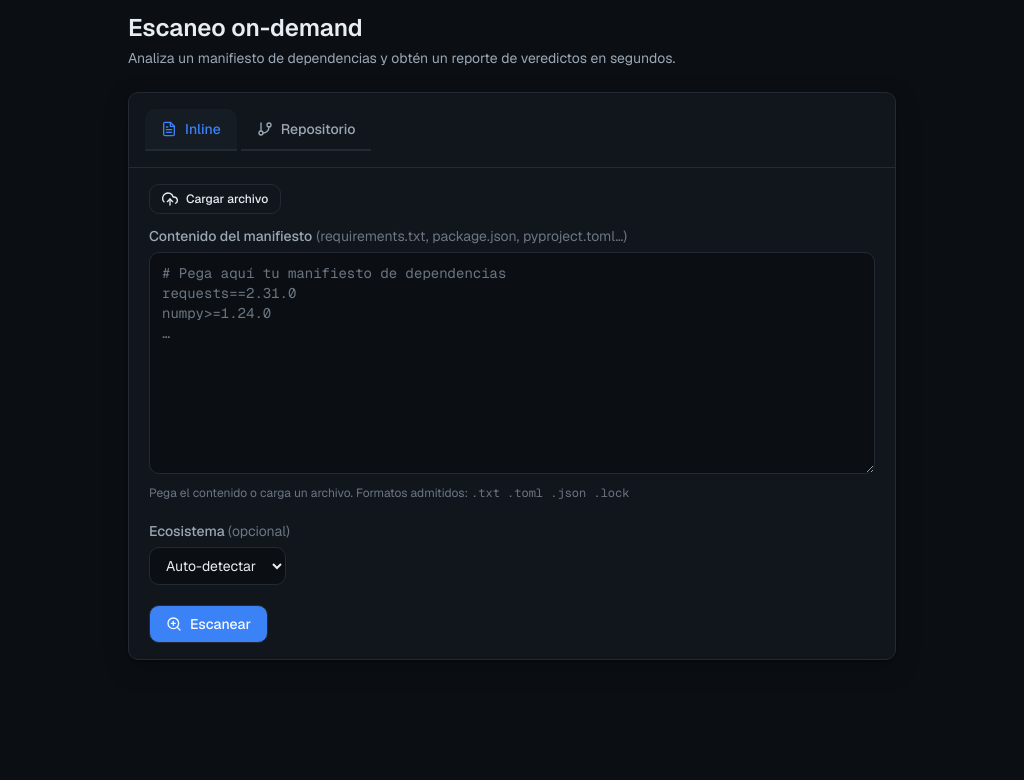
Scenario: ScanPage — error de API › muestra el mensaje saneado del ApiError
This screenshot has width=1024, height=780.
Type "contenido-invalido" into the text box labelled "Contenido del manifiesto". click: [512, 363]
box: x1=149 y1=252 x2=875 y2=474
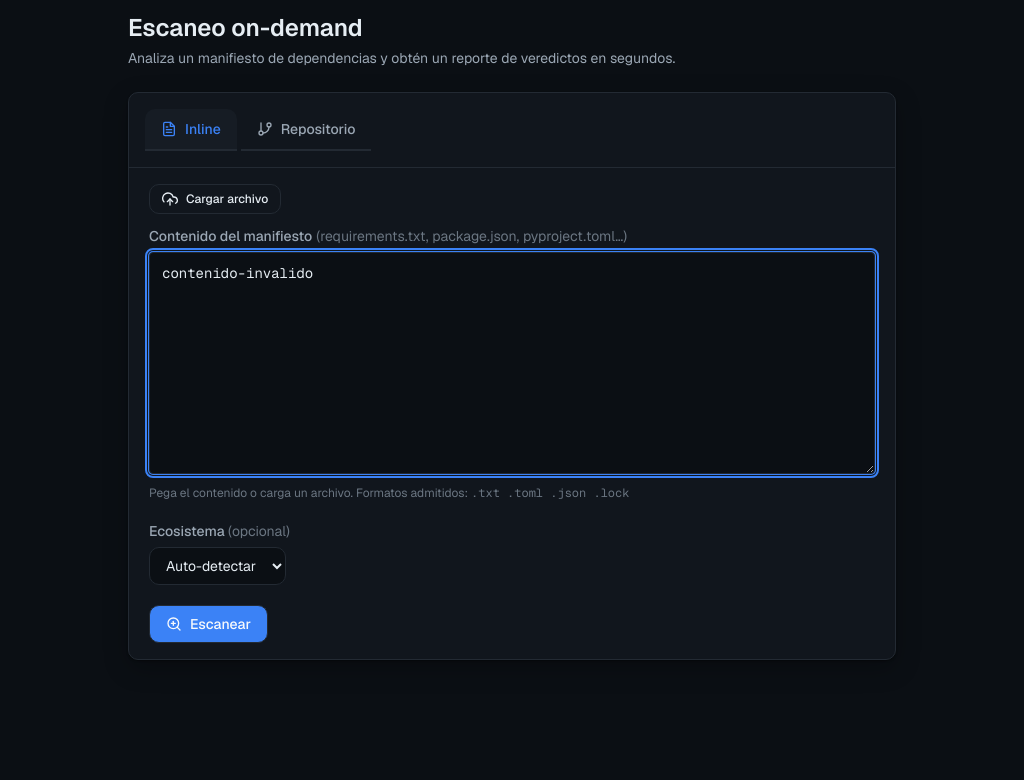
Click the button with aria-label "Iniciar escaneo". click: [208, 624]
box: x1=149 y1=605 x2=268 y2=643
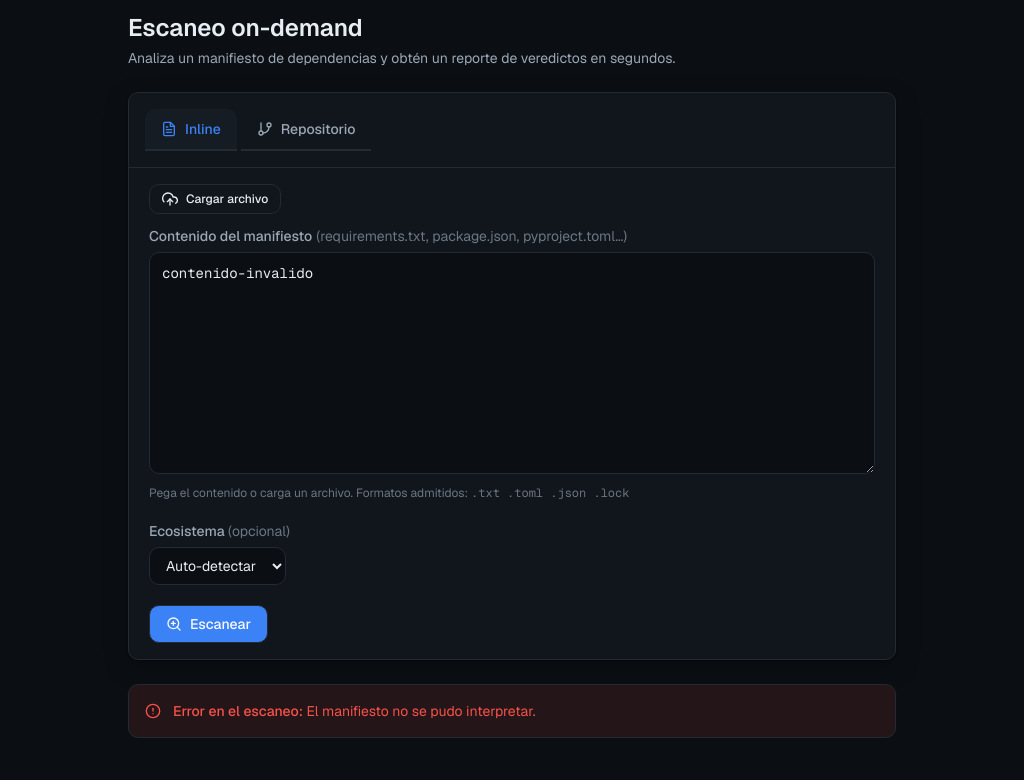
Expected: the message shows "El manifiesto no se pudo interpretar.", x1=306 y1=702 x2=536 y2=720
